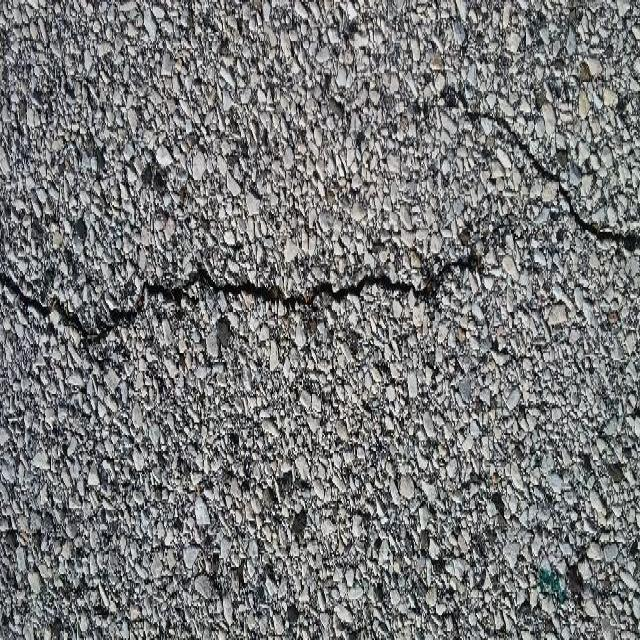GRIETA: (0, 253, 479, 342), (460, 91, 639, 251)
